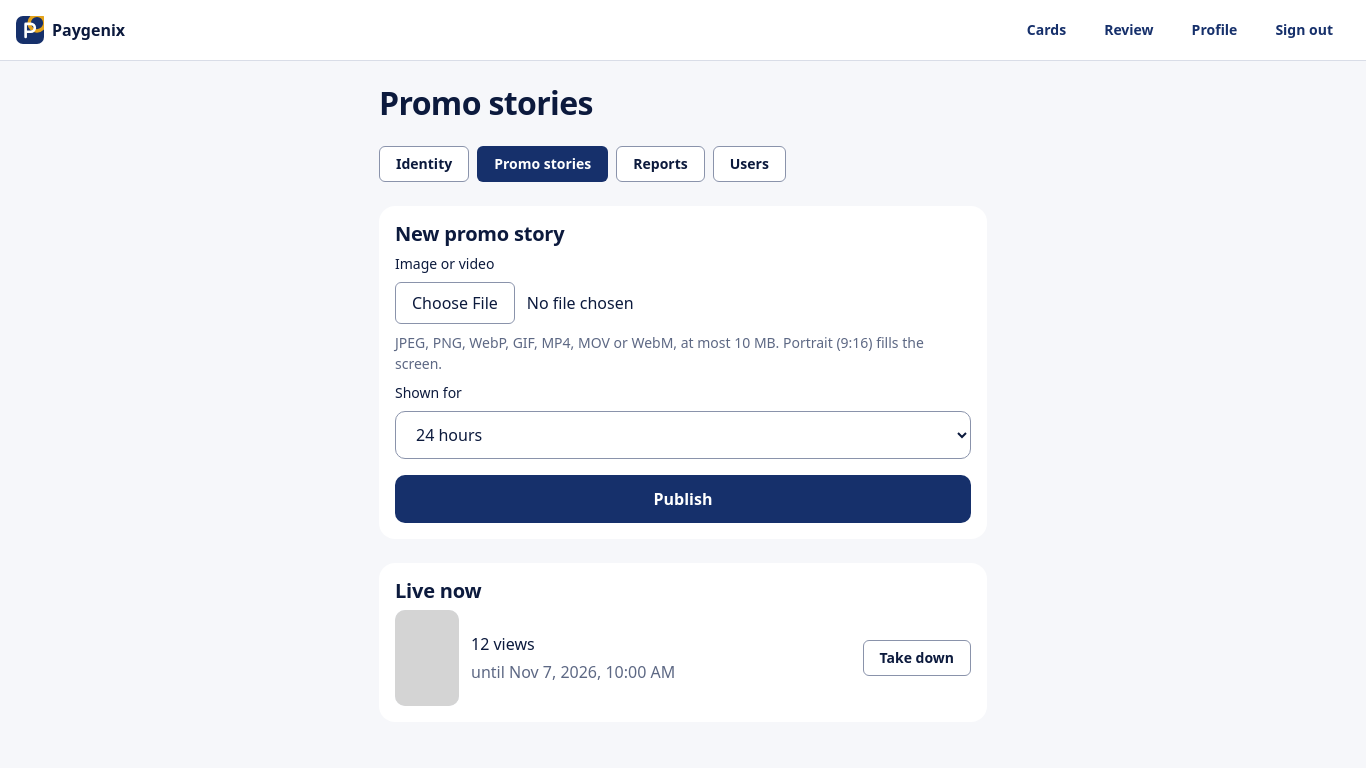
take down asks first and removes the row
Step 1. Click the button "Take down" → (917, 658), box [862, 640, 971, 676]
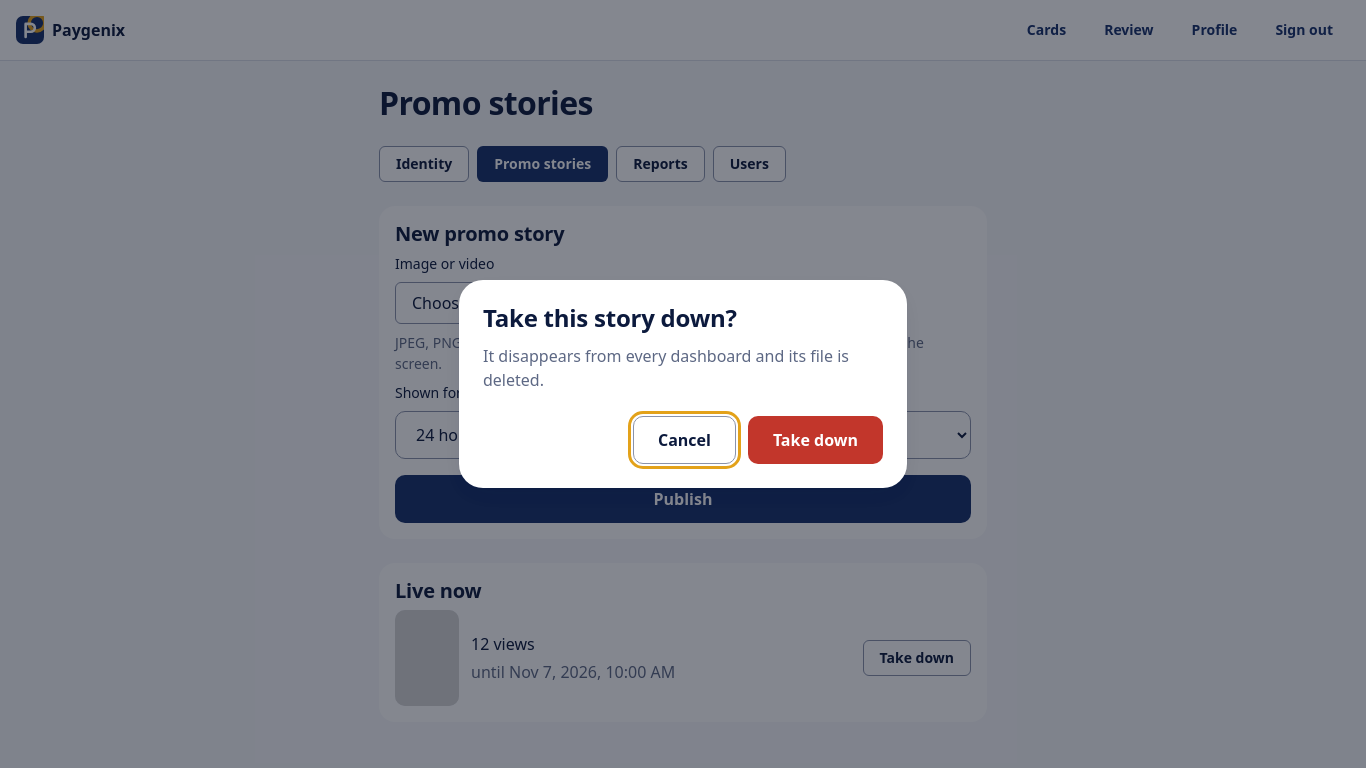
Step 2. Click the button "Take down" → (815, 440), box [748, 416, 883, 464]
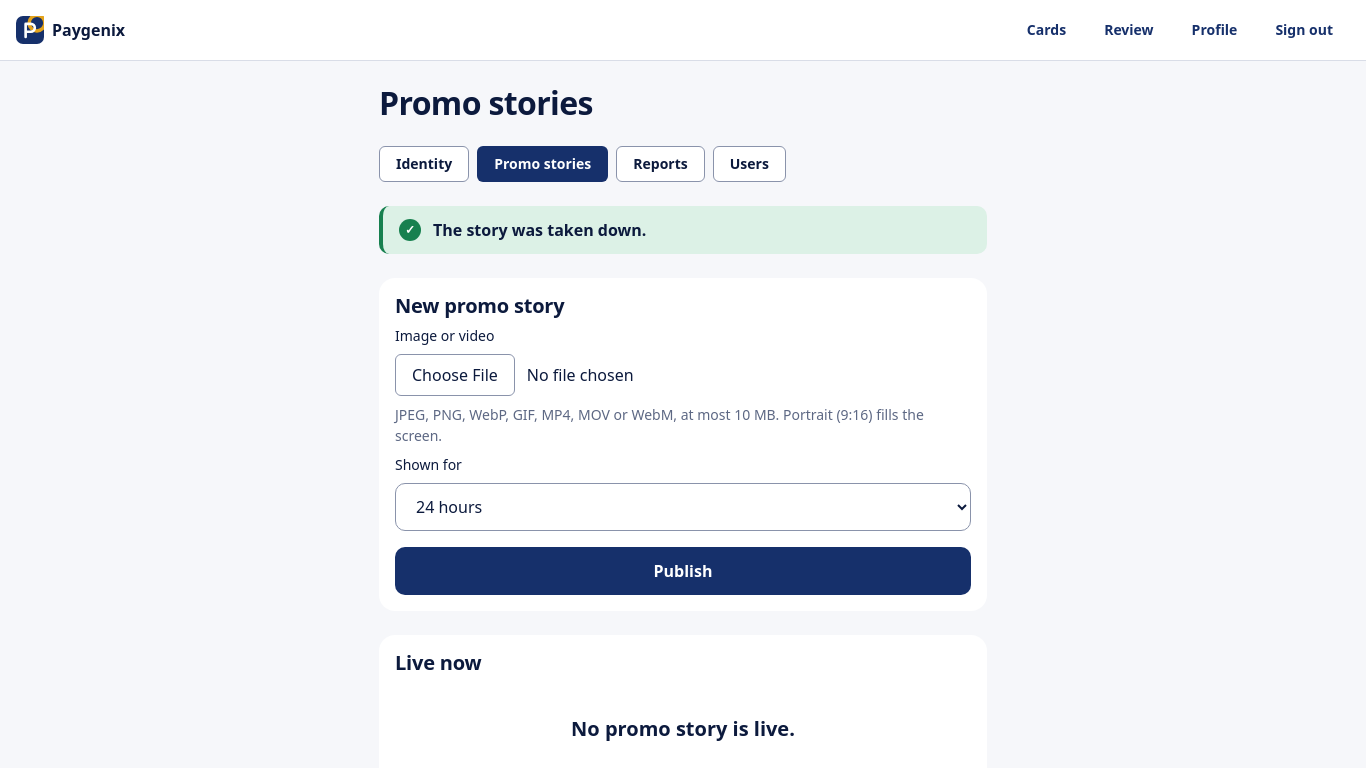
Result: the text "The story was taken down." is shown at [433, 219, 646, 241]
Result: the text "No promo story is live." is shown at [571, 714, 795, 744]
